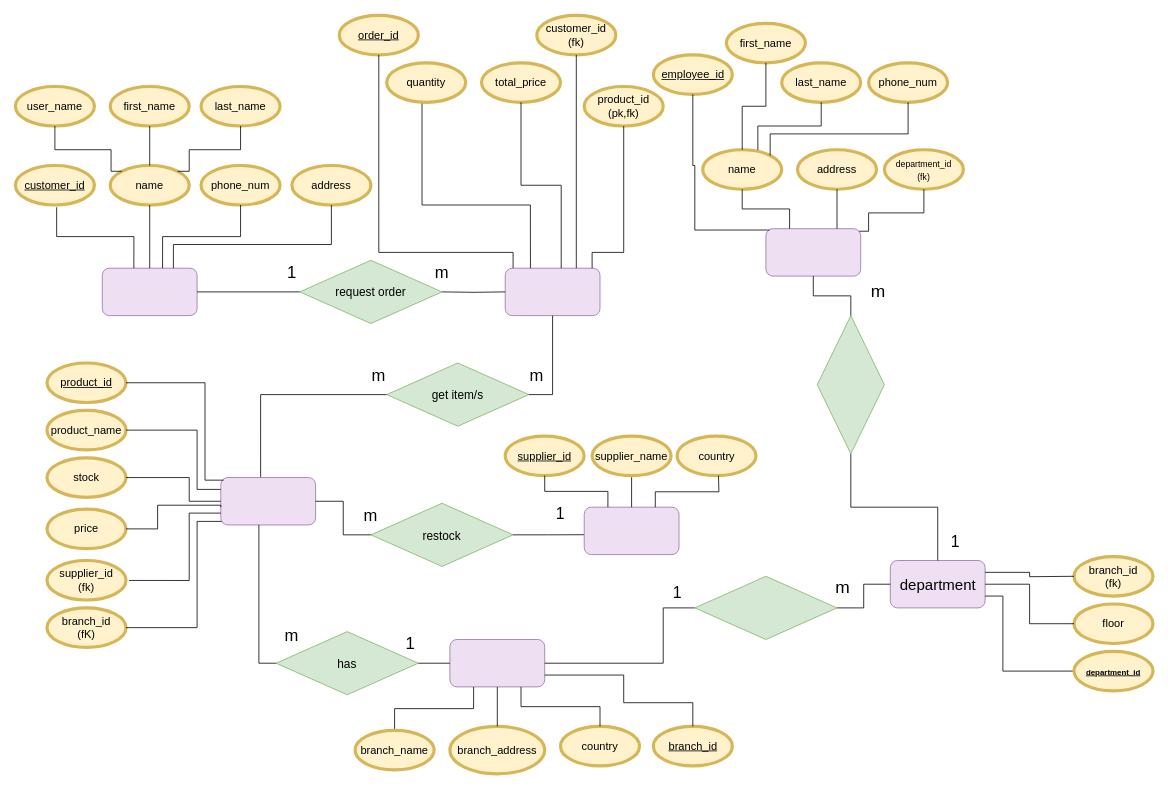
Some shapes in this 1168 by 788 pixel diagram are drawn without their labels. The centre of each missing label's shape, as x and y in pixels:
"branch" goes at (x=497, y=663).
"customer" goes at (x=149, y=291).
"employee" goes at (x=813, y=252).
"inventory" goes at (x=268, y=501).
"order" goes at (x=552, y=291).
"part of" goes at (x=765, y=608).
"supplier" goes at (x=631, y=530).
"works in" goes at (x=850, y=384).
